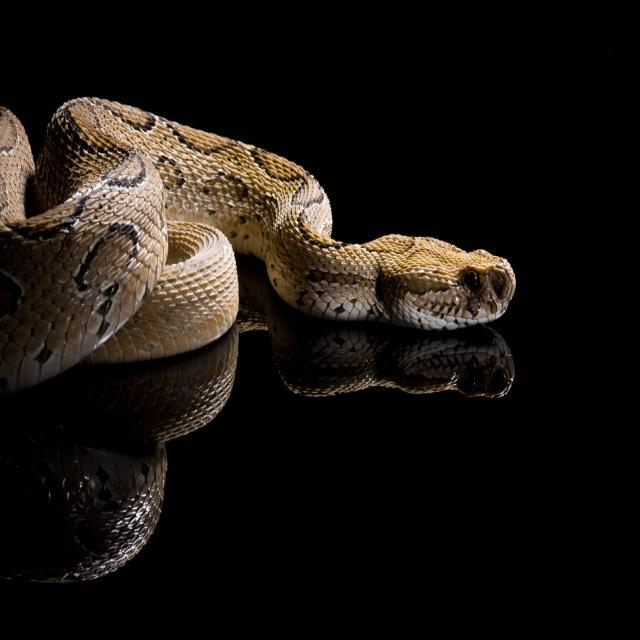Snake: (0, 87, 527, 402)
